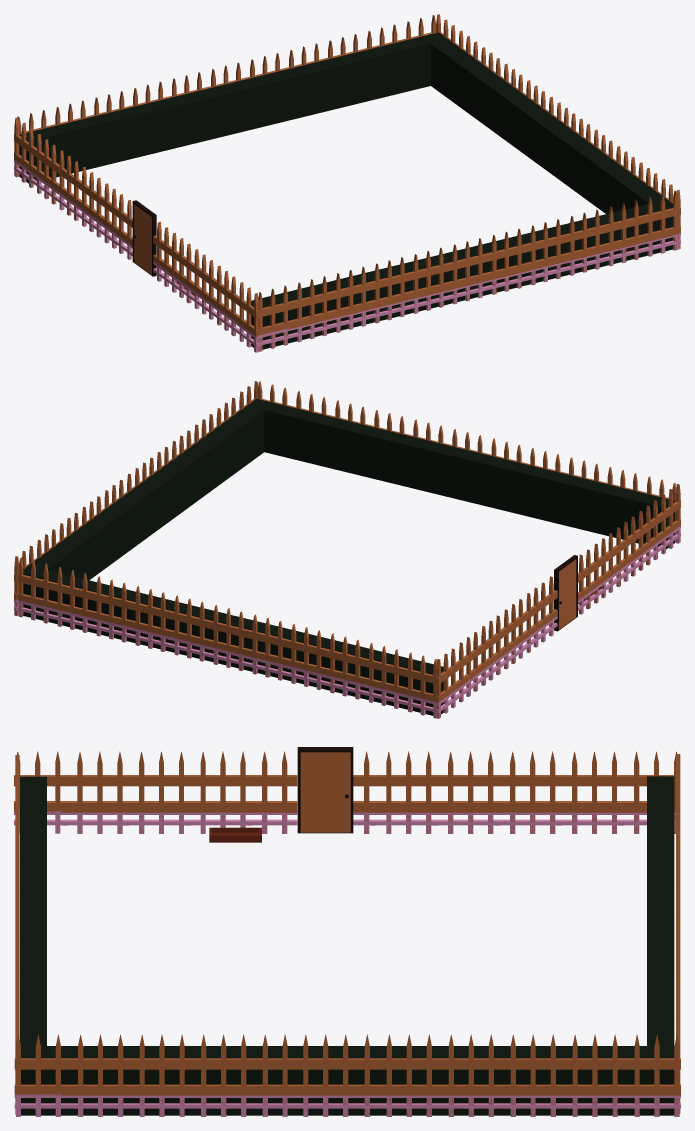
The model's file is PigPen.mtl.obj.
The picture shows the model from 3 angles, top to bottom: view 1: azimuth 30°, elevation 25°; view 2: azimuth 150°, elevation 25°; view 3: azimuth 270°, elevation 25°; orthographic projection. The views are drawn at different scales.
Visible parts, largest first — view 1: Fences.001, Bushes.001, Bushes, Fences, Door.001, DoorFrame.001; view 2: Bushes.001, Fences.001, Bushes, Fences, Door.001; view 3: Fences.001, Bushes.001, Fences, Bushes, Door.001, DoorFrame.001, ClayCube.
Boxes of the visible parts, <box> form: Fences.001: <box>14,14,680,351</box>; Bushes.001: <box>19,32,672,326</box>; Bushes: <box>19,65,672,349</box>; Fences: <box>14,153,680,352</box>; Door.001: <box>134,204,151,274</box>; DoorFrame.001: <box>132,200,156,276</box>; Bushes.001: <box>23,399,675,713</box>; Fences.001: <box>14,381,680,718</box>; Bushes: <box>23,432,675,715</box>; Fences: <box>14,525,680,718</box>; Door.001: <box>559,559,576,629</box>; Fences.001: <box>14,751,680,1116</box>; Bushes.001: <box>20,776,674,1114</box>; Fences: <box>14,801,680,1116</box>; Bushes: <box>21,1098,674,1115</box>; Door.001: <box>300,752,350,832</box>; DoorFrame.001: <box>297,747,353,833</box>; ClayCube: <box>209,827,261,842</box>.
Bounding box in the file's own units: 81.62 × 11.3 × 80.38.
